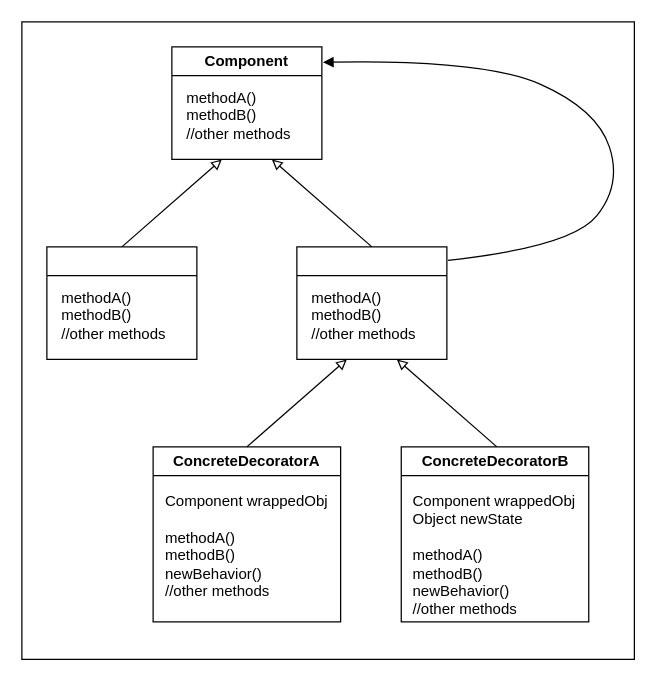
This 656x681 diagram has some shape labels left out. The box of each missing label's shape, as (x1, y1, x2, y2) in pixels:
ConcreteComponent: (46, 246, 197, 359)
Decorator: (296, 246, 447, 359)
